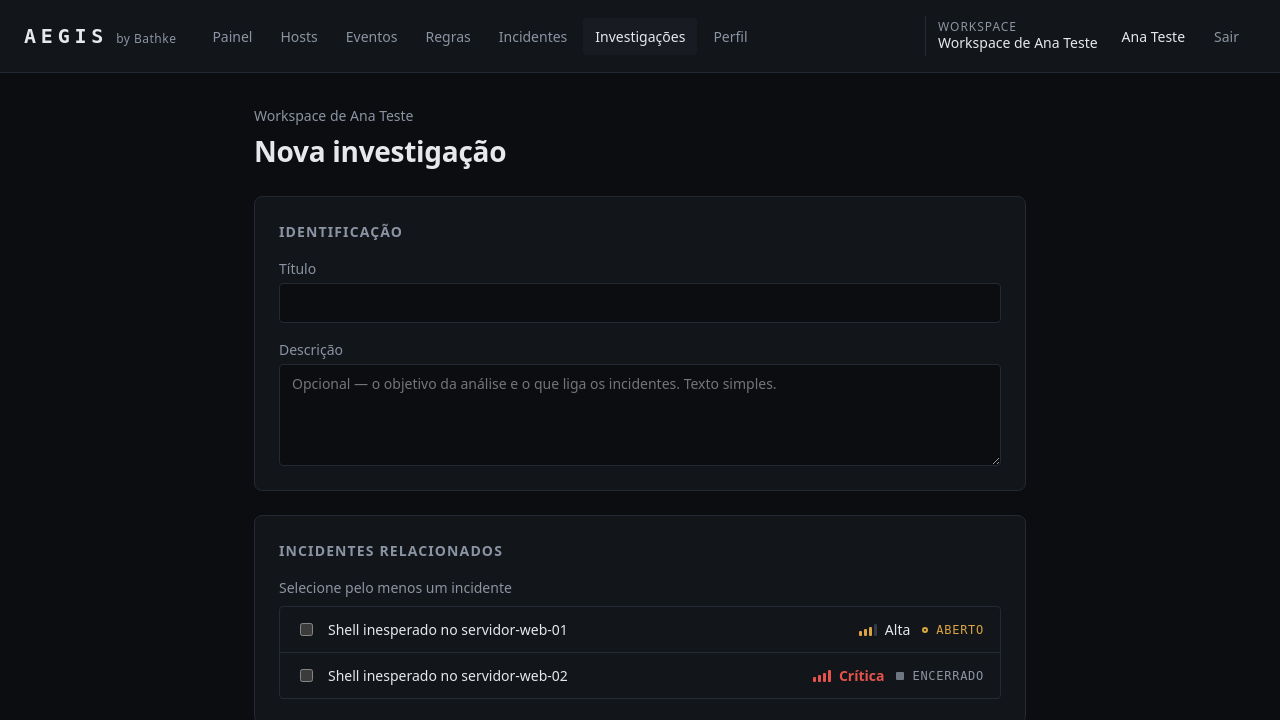
Scenario: create investigation (separate screen) › lists the workspace incidents with severity and status, posts title and incidents, then opens the detail
Expected: the field labelled "Conclusão" is not shown
Type "Atividade incomum nos servidores web" into the field labelled "Título" at (640, 303), box [279,283,1001,323]
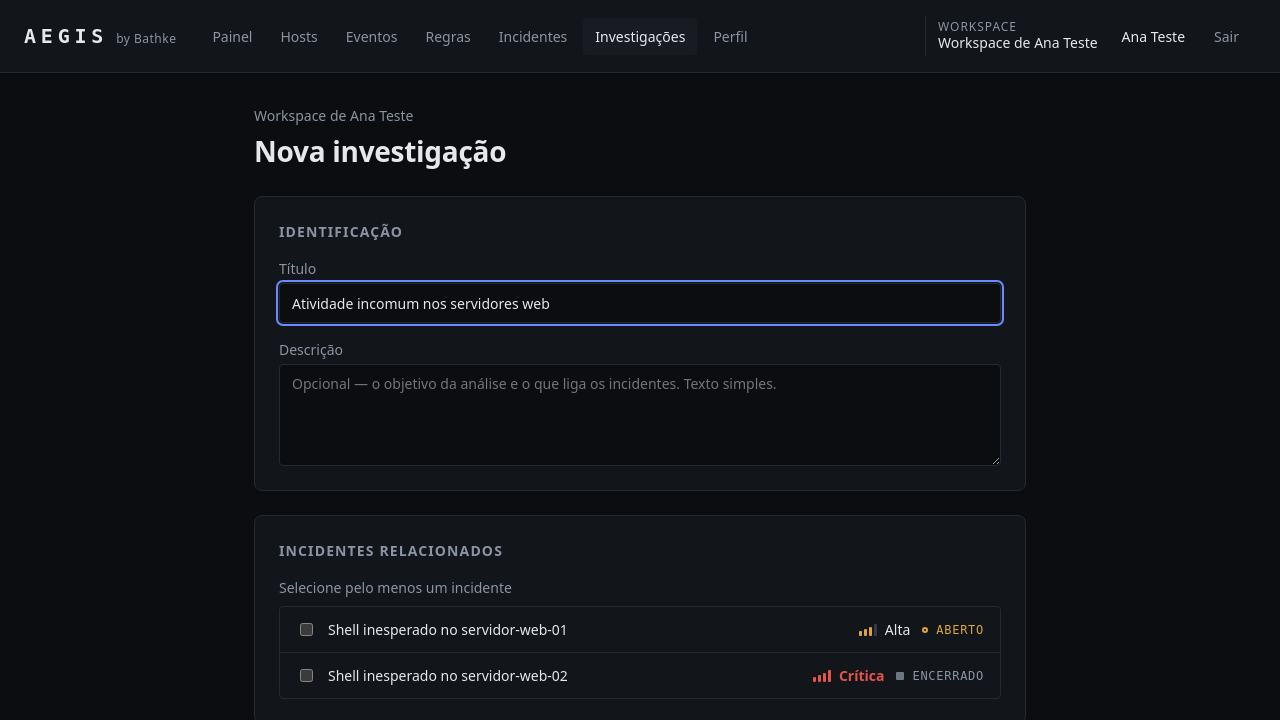
Note: A closed incident can be grouped too: no business rule forbids it.
Click the checkbox labelled "Shell inesperado no servidor-web-01 Alta Aberto" at (306, 630), box [300,623,313,636]
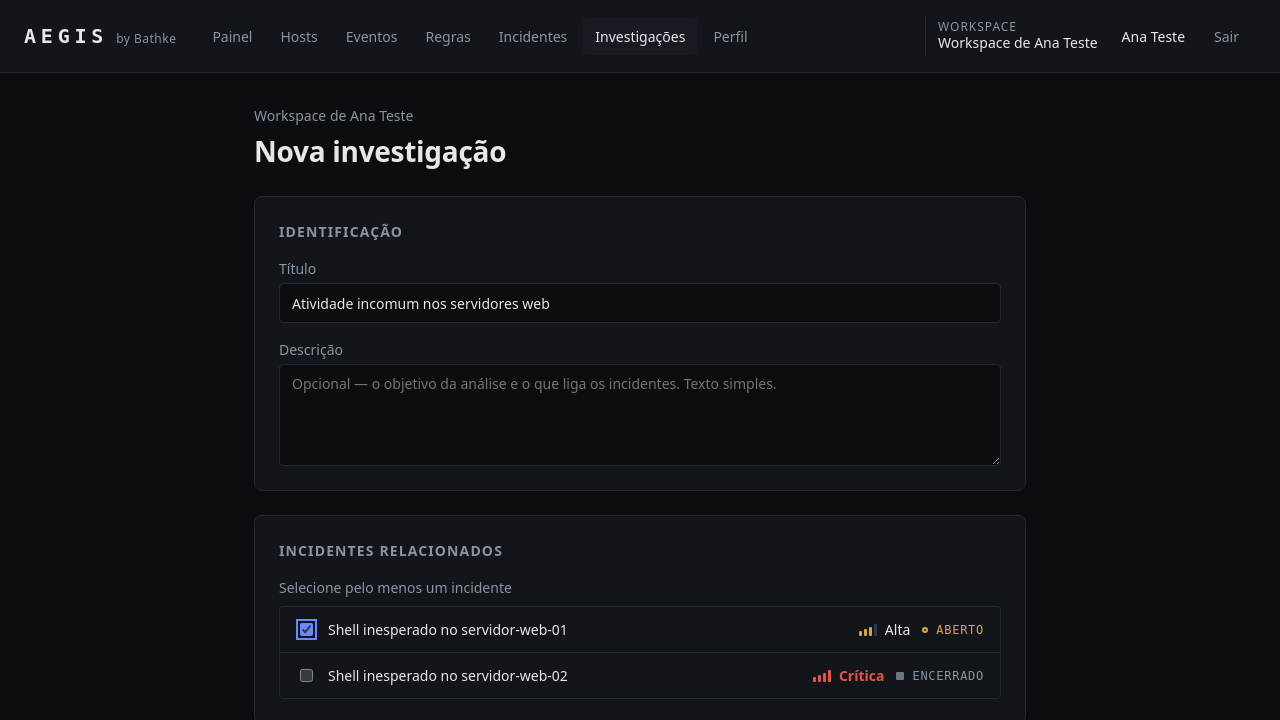
Click the checkbox labelled "Shell inesperado no servidor-web-02 Crítica Encerrado" at (306, 676), box [300,669,313,682]
(page scrolled)
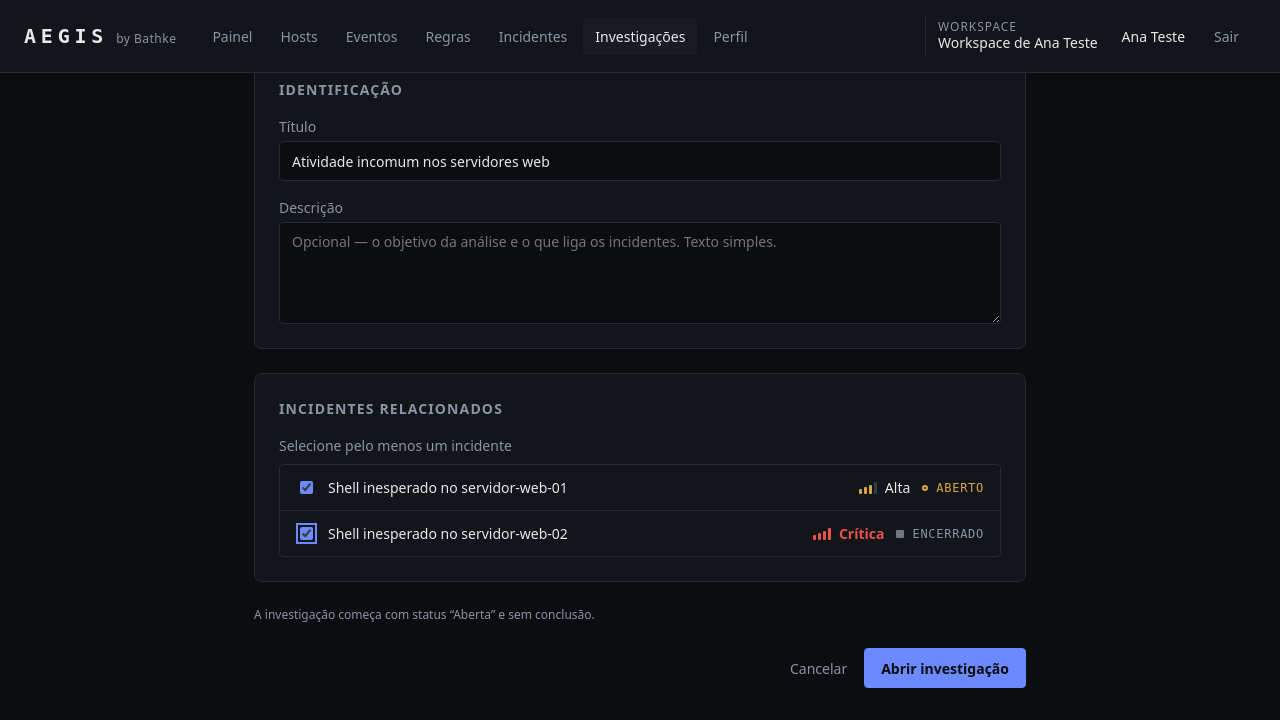
Click the button "Abrir investigação" at (945, 668), box [864,648,1026,688]
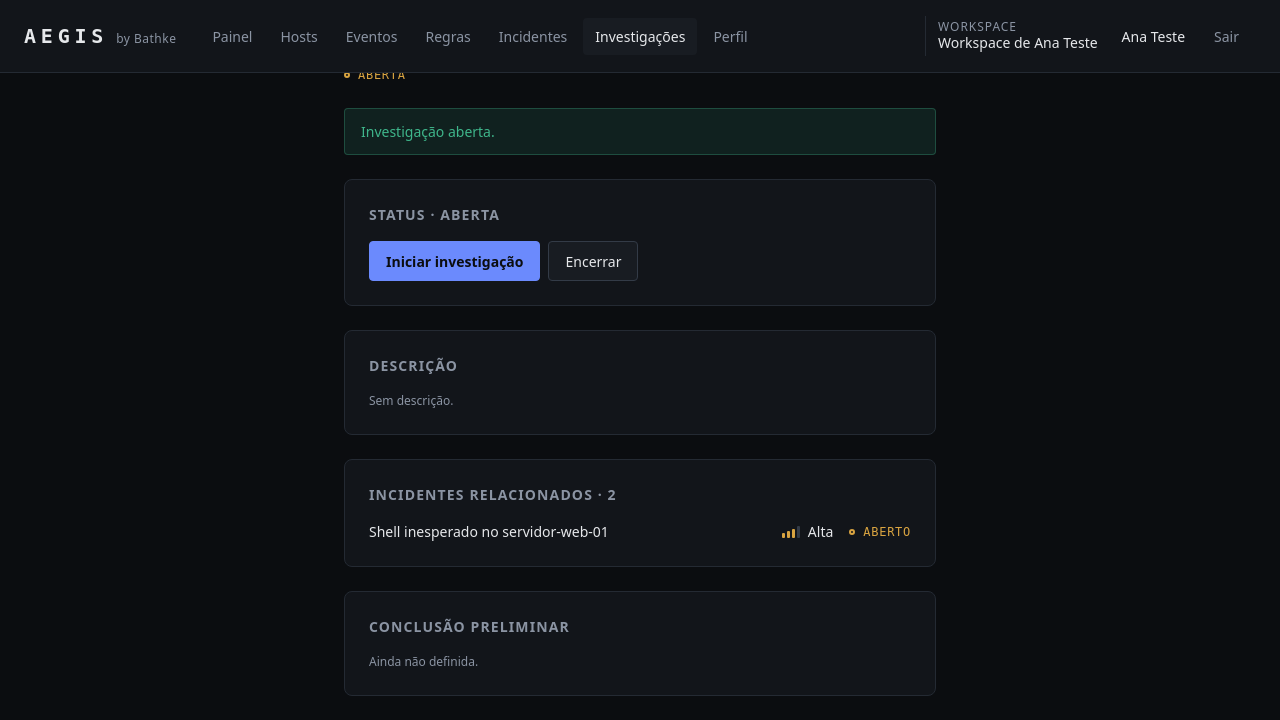
Result: the text "Investigação aberta." is shown at [344,108,936,155]
